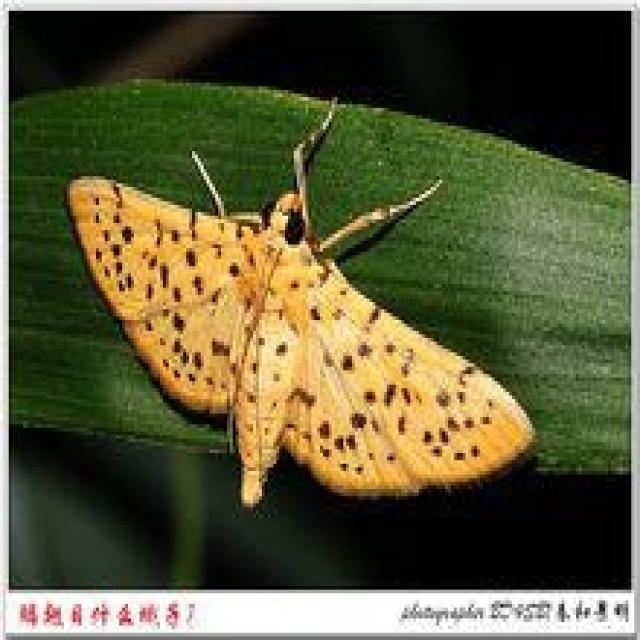peach borer: (65, 125, 536, 510)
